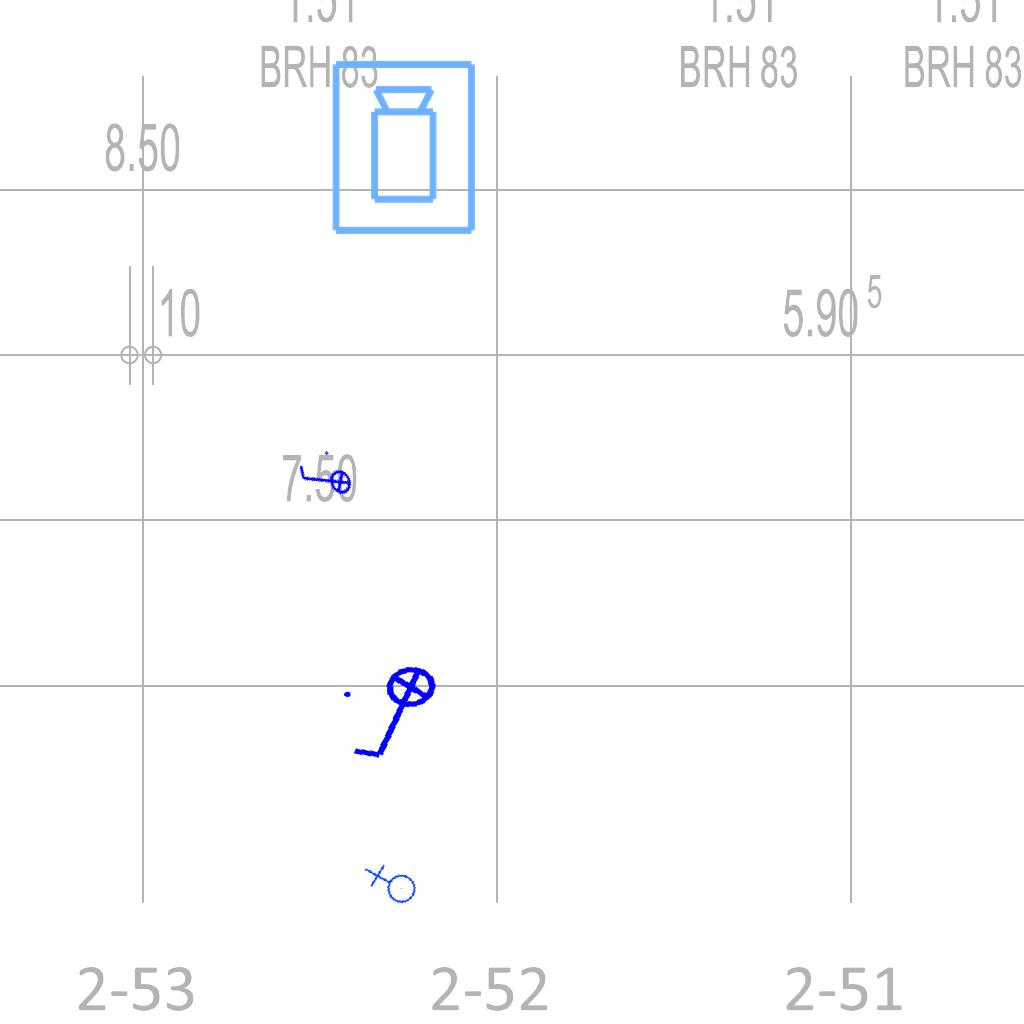Ausschalter_beleuchtet: (335, 660, 459, 770), (291, 444, 359, 516)
Elektroanschluss_allgemein_230V_Geraeteanschlussdose_230V: (361, 855, 422, 916)
KFO_Kamera_mit_Festobjektiv: (328, 57, 482, 239)
